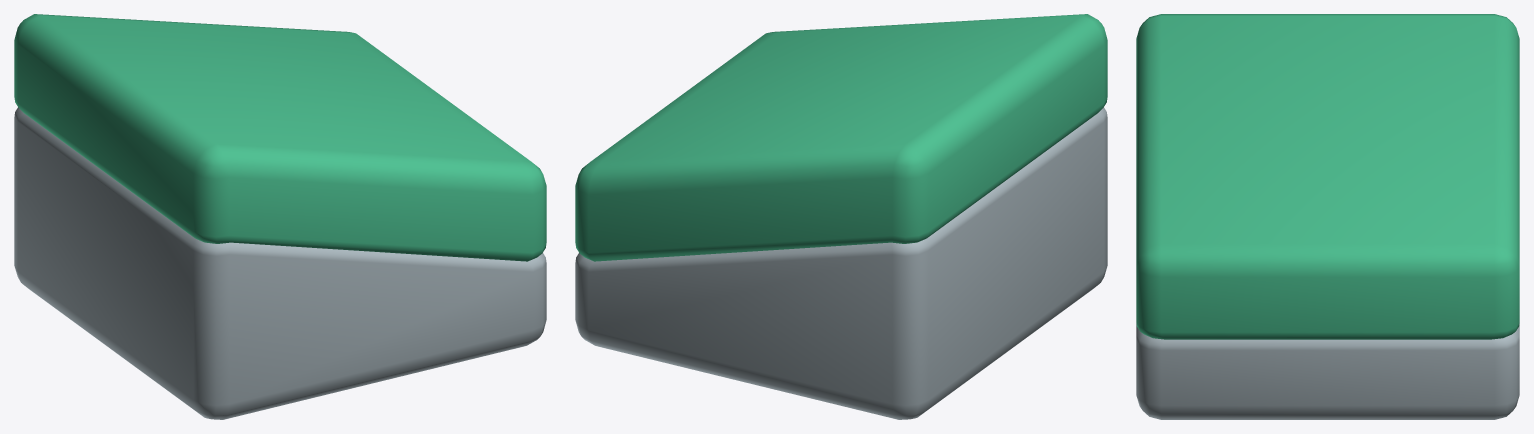
The model's file is tileSlopeLowMedium_teamGreen.gltf.glb.
3 renders of one model, left to right at view 1: azimuth 30°, elevation 25°; view 2: azimuth 150°, elevation 25°; view 3: azimuth 270°, elevation 25°, orthographic. The views are drawn at different scales.
Parts seen in each view (by area): view 1: tileSlopeLowMedium_forest; view 2: tileSlopeLowMedium_forest; view 3: tileSlopeLowMedium_forest.
Part boxes in pixels (x1=…): tileSlopeLowMedium_forest: x1=14, y1=14, x2=546, y2=419; tileSlopeLowMedium_forest: x1=575, y1=14, x2=1107, y2=419; tileSlopeLowMedium_forest: x1=1136, y1=14, x2=1519, y2=419.
Bounding box in the file's own units: 2 × 1.5 × 2.
